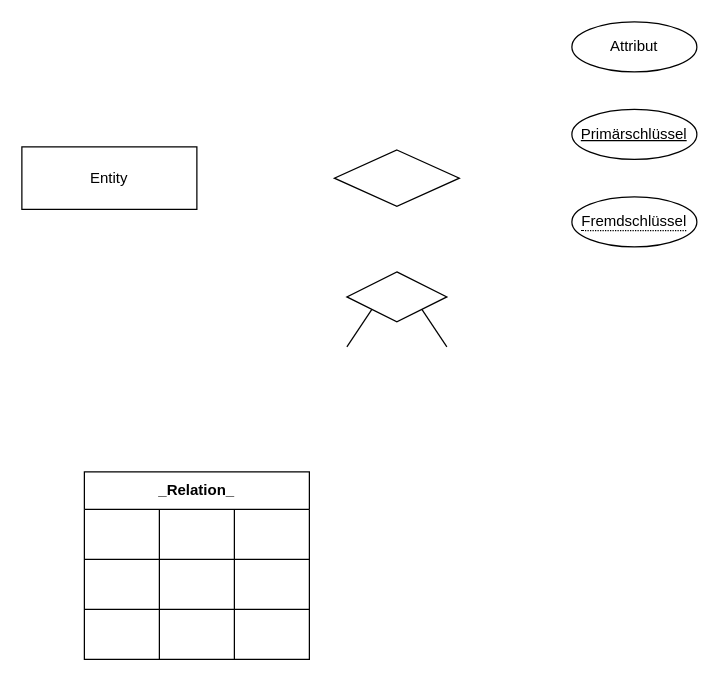
Image size: 719x681. Some labels were removed from this diagram. The box of each missing label's shape, as (x1, y1, x2, y2) in pixels:
is a: (346, 271, 447, 322)
Relationship: (333, 149, 459, 206)
